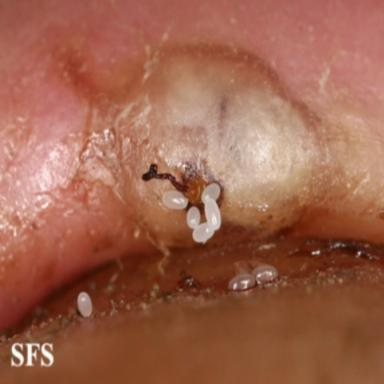Tungiasis: (115, 45, 322, 250), (228, 265, 278, 290), (77, 292, 92, 317)
